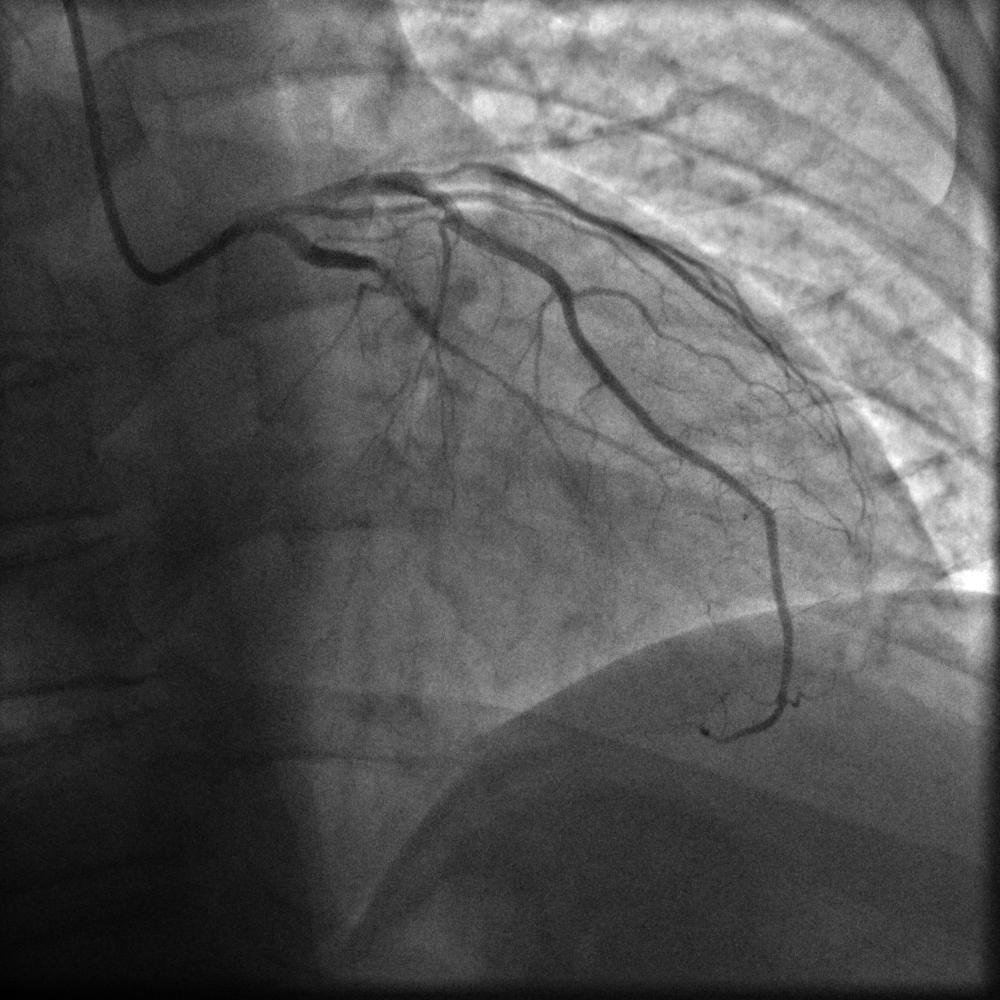Stenosis: (366, 256, 420, 318)
